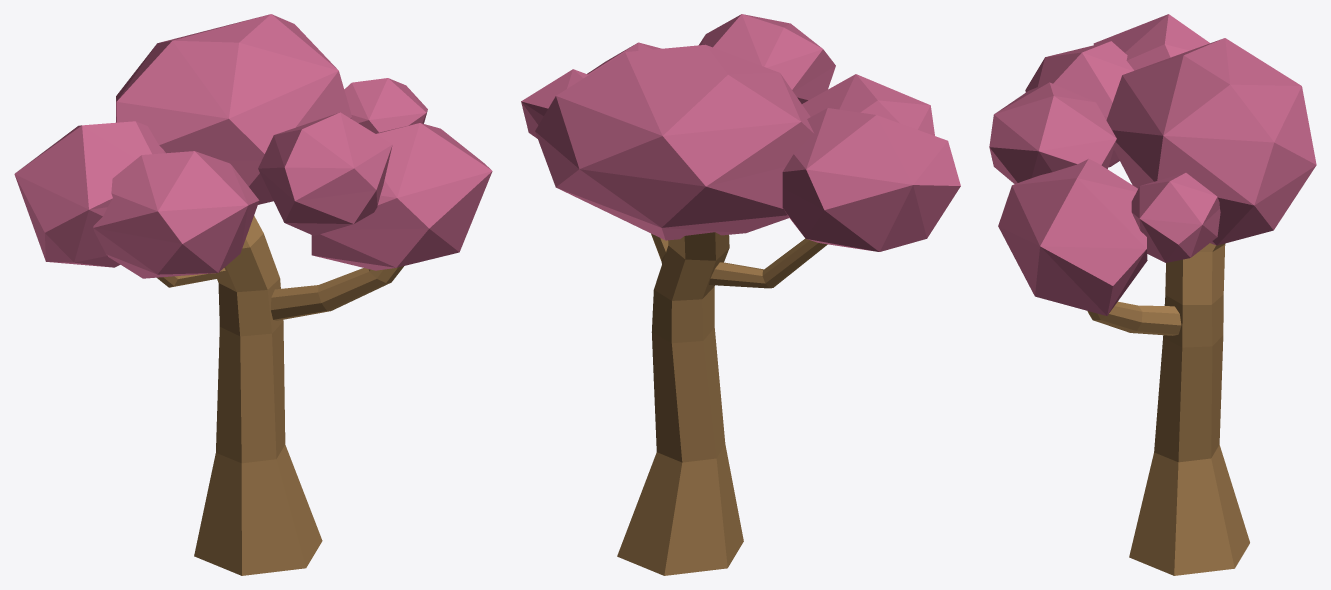
The model's file is Tree_2.fbx.
3 renders of one model, left to right at view 1: azimuth 30°, elevation 25°; view 2: azimuth 150°, elevation 25°; view 3: azimuth 270°, elevation 25°, orthographic. The views are drawn at different scales.
Visible parts, largest first — view 1: Tree_2; view 2: Tree_2; view 3: Tree_2.
Part boxes in pixels (<box>): Tree_2: <box>14,14,492,575</box>; Tree_2: <box>521,14,960,575</box>; Tree_2: <box>989,14,1316,575</box>.
Size of the model in its own units: 327 by 370 by 226.
